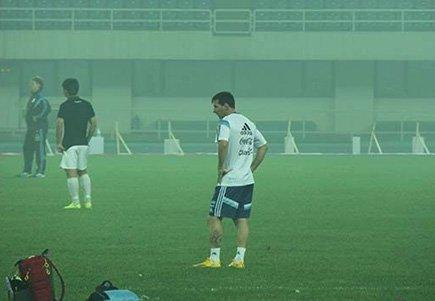person: (191, 90, 267, 267), (56, 78, 96, 209), (18, 77, 51, 178)
